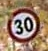limite 30: (6, 6, 40, 42)
